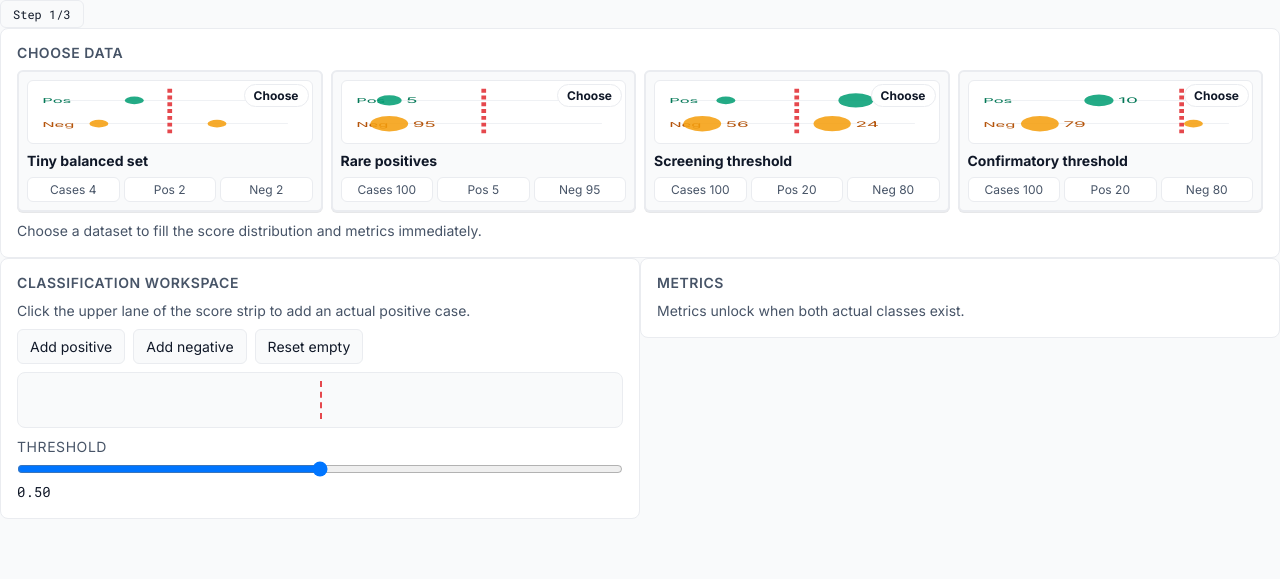
Test case: ClassificationPlayground › adds positive and negative cases by clicking the score strip
Press the mouse on the picture named "Classification workspace" at (320, 400), box [17,372,623,428]
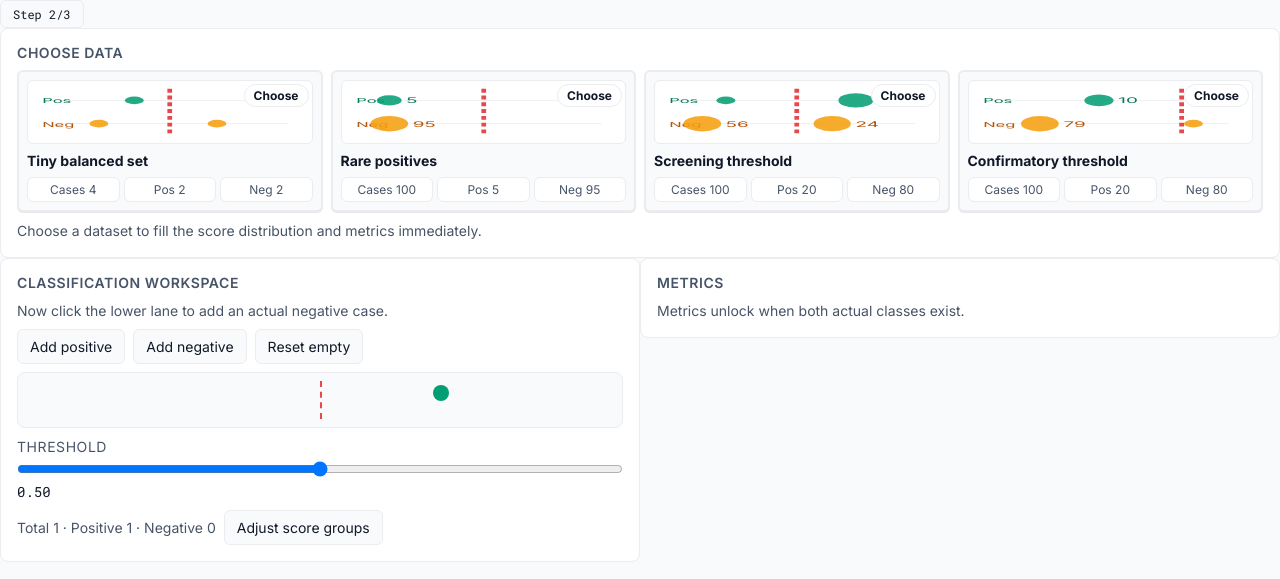
Press the mouse on the picture named "Classification workspace" at (320, 400), box [17,372,623,428]
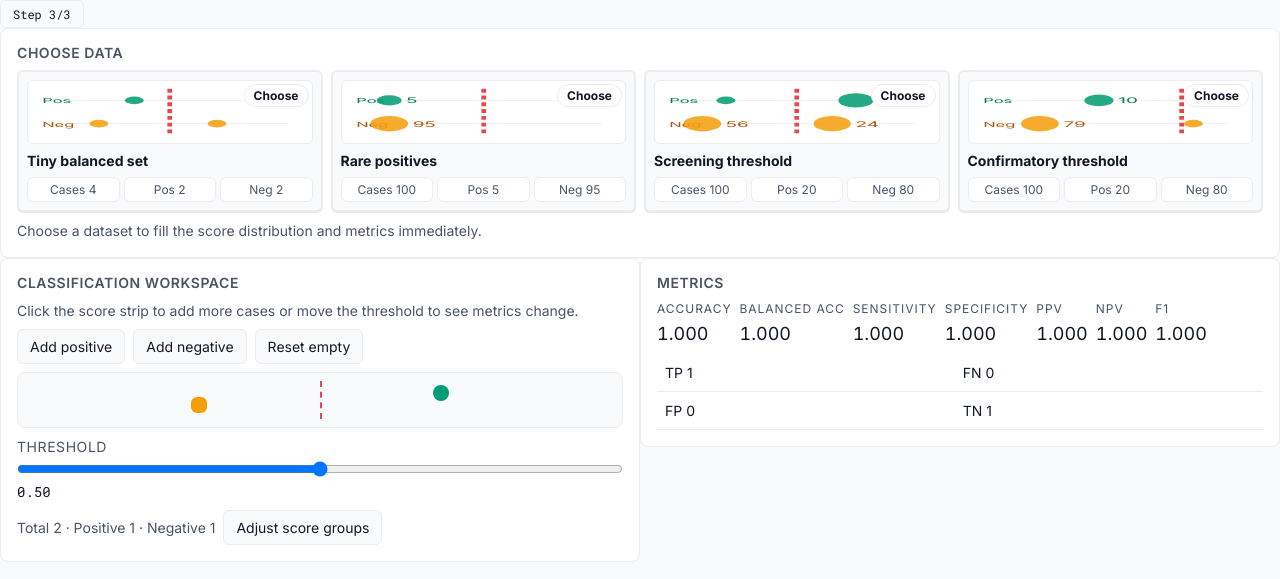
Result: the text "Step 3/3" is shown at [0,0,84,28]
Result: the text "TP 1" is shown at [657,354,955,391]
Result: the text "TN 1" is shown at [955,391,1263,429]
